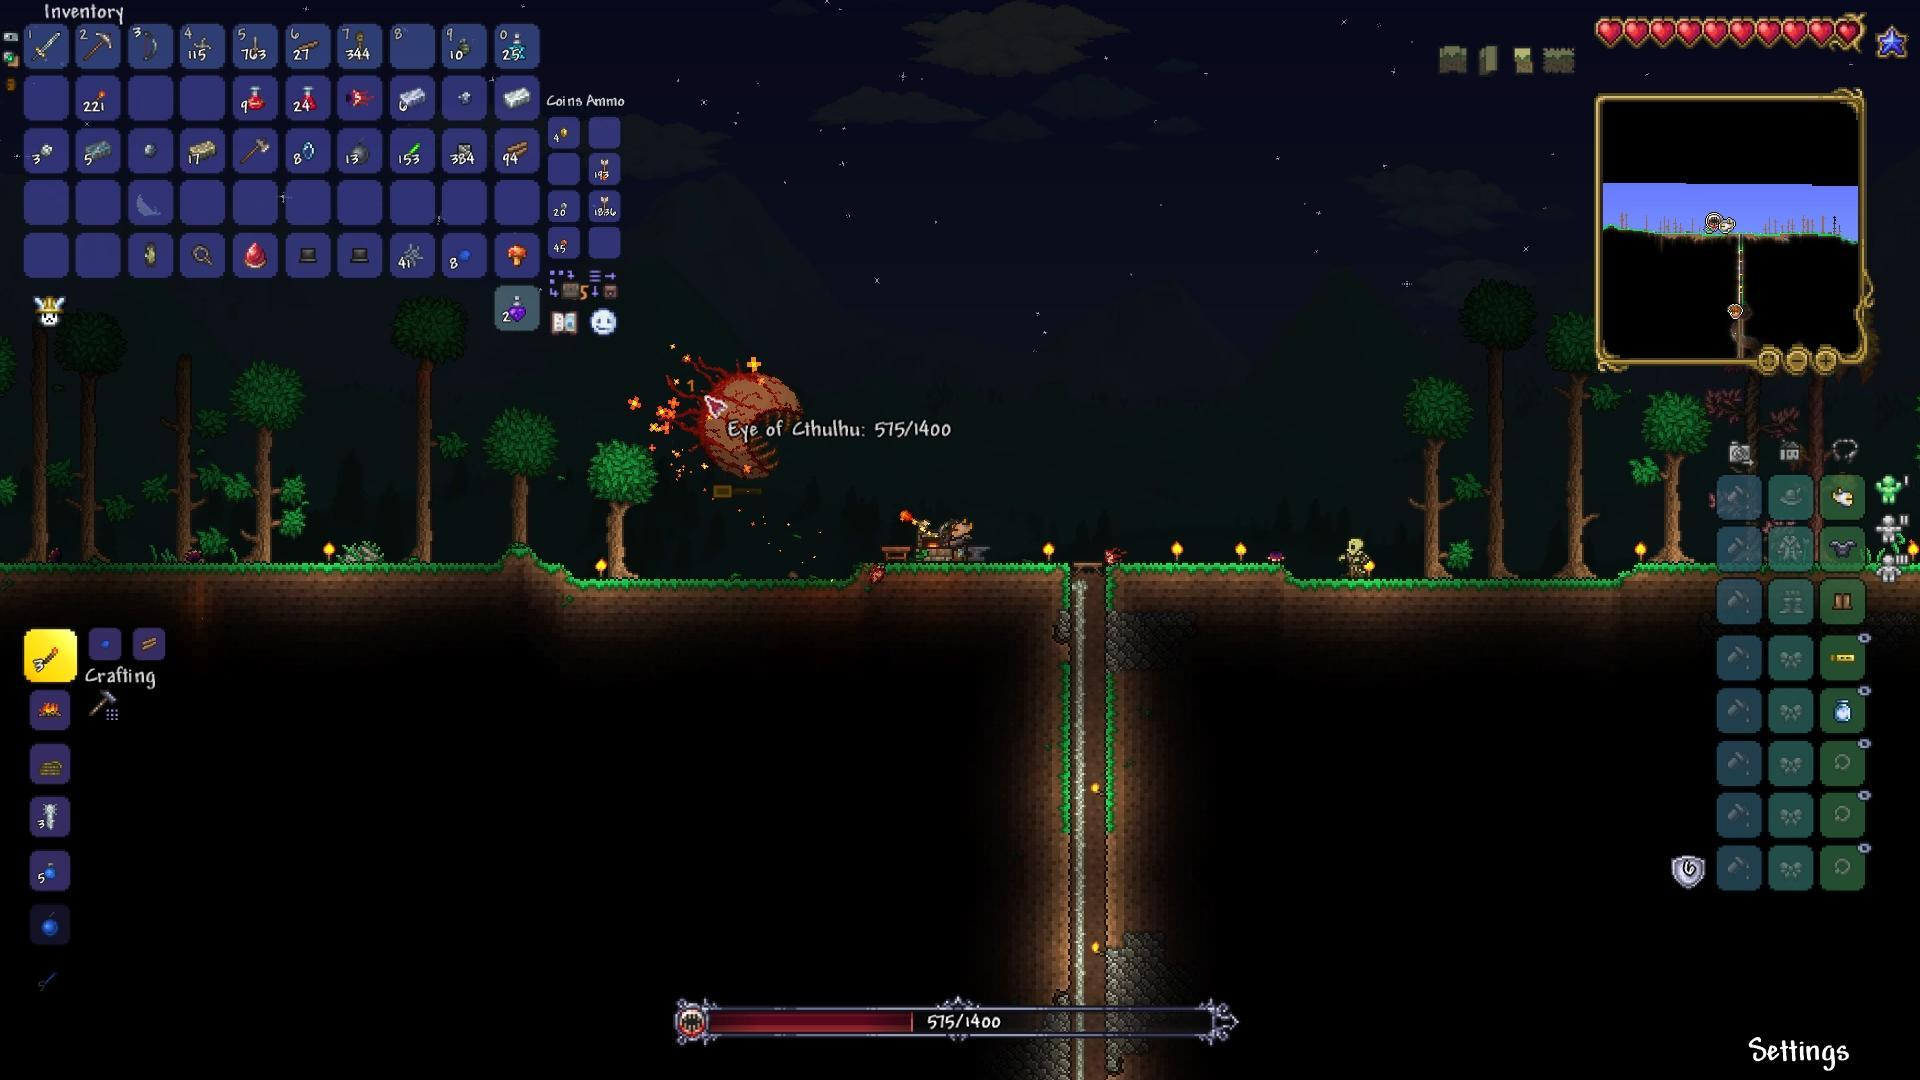eyeC: (659, 351, 804, 487)
